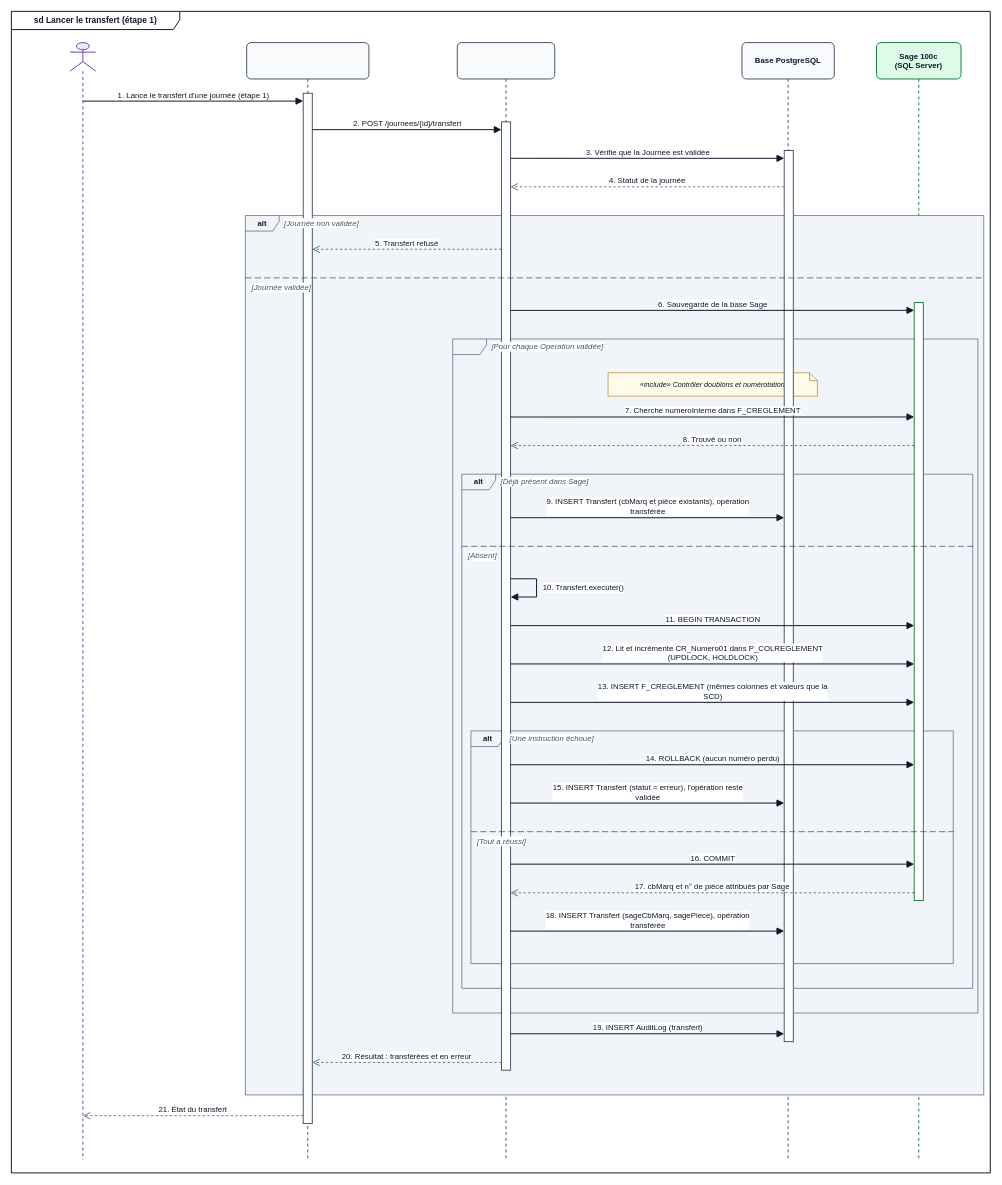
Some shapes in this 1002 by 1185 pixel diagram are drawn without their labels. Here are the shapes that lost their labels. From the top down, the box of each, then its label:
(69, 42, 96, 1160): Responsable
(246, 42, 369, 1160): Application de caisse (React)
(456, 42, 555, 1160): Serveur AdonisJS
(452, 338, 978, 1013): loop
